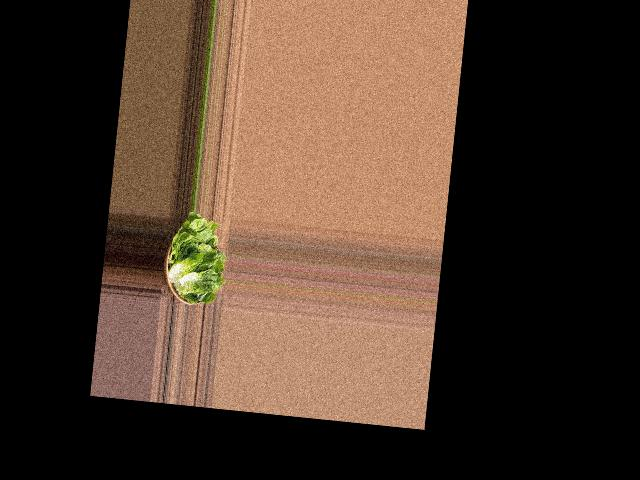lettuce: (160, 211, 228, 311)
